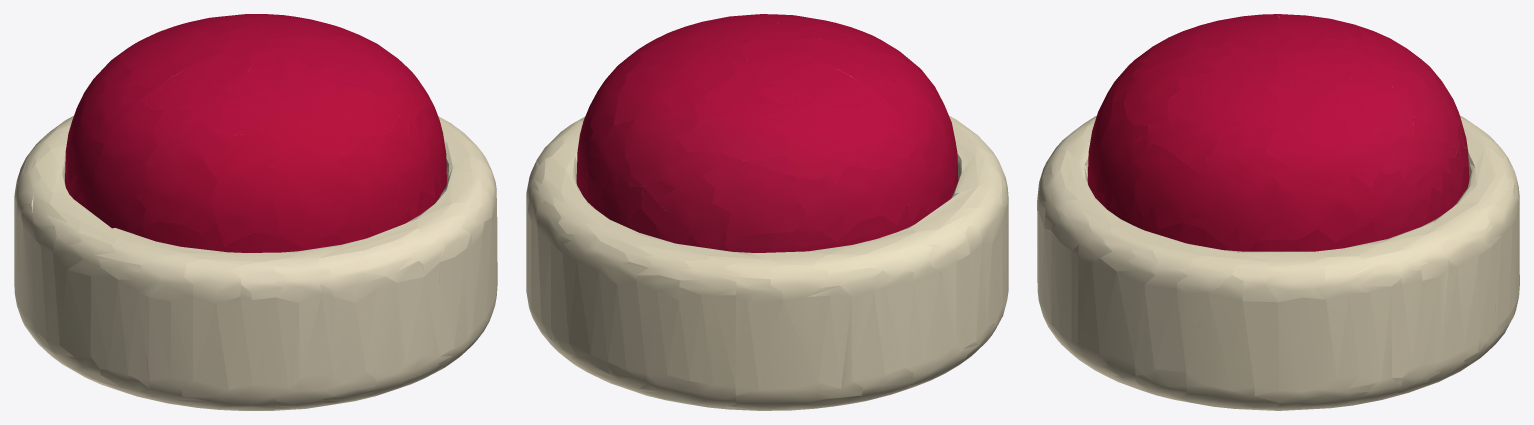
File: coop_switch.glb
The picture shows the model from 3 angles, left to right: view 1: azimuth 30°, elevation 25°; view 2: azimuth 150°, elevation 25°; view 3: azimuth 270°, elevation 25°; orthographic projection.
Size of the model in its own units: 1.9 by 1.22 by 1.9.
Materials: 1 (1 with a texture image).
